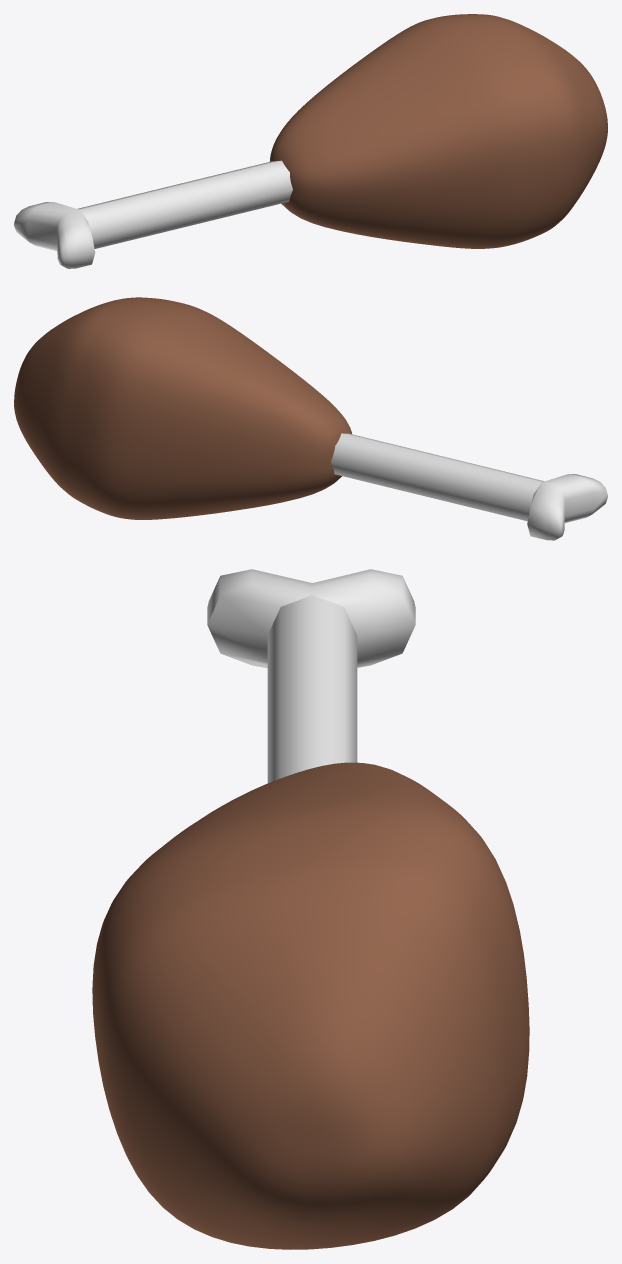
Rendered from Drumstick_Cooked.fbx.
3 views of the same model, one above another, from view 1: azimuth 30°, elevation 25°; view 2: azimuth 150°, elevation 25°; view 3: azimuth 270°, elevation 25° (orthographic). The views are drawn at different scales.
Parts seen in each view (by area): view 1: Cube.024, Cylinder; view 2: Cube.024, Cylinder; view 3: Cube.024, Cylinder.
Part boxes in pixels (x1,y1,x2,y2): Cube.024: [269, 14, 607, 248]; Cylinder: [14, 160, 292, 268]; Cube.024: [14, 297, 351, 519]; Cylinder: [331, 433, 607, 540]; Cube.024: [92, 762, 529, 1249]; Cylinder: [207, 569, 415, 783].
Size of the model in its own units: 3714 by 1259 by 1261.
